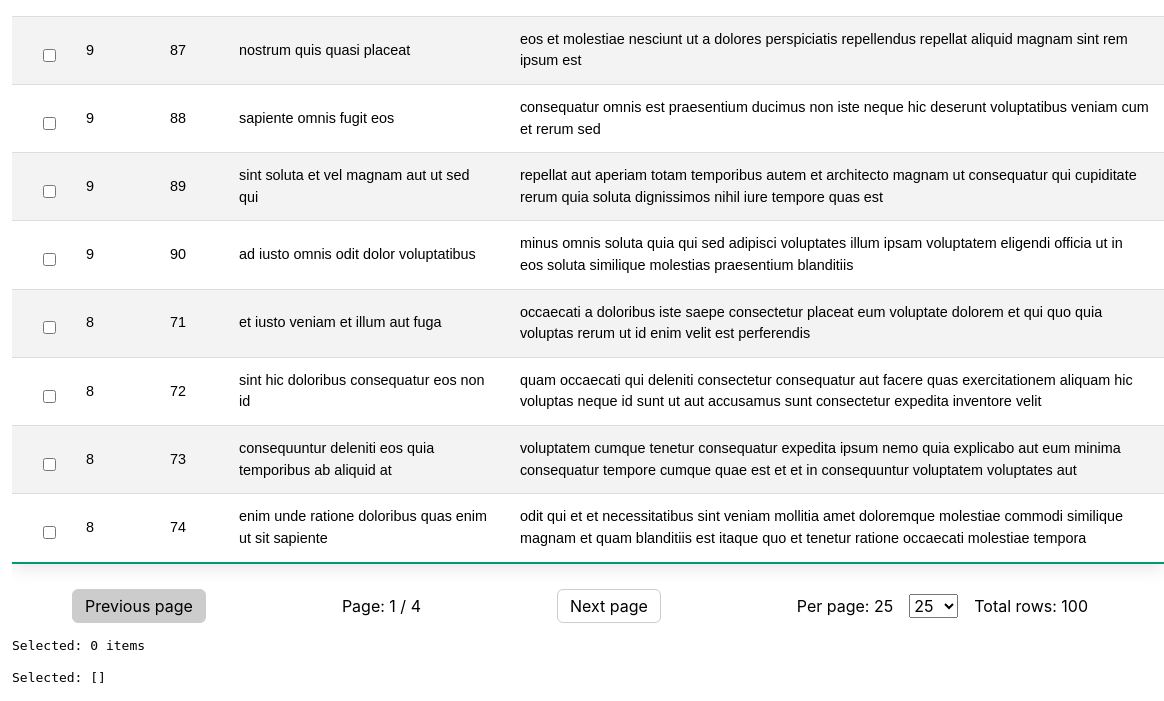
Test: renders correctly when changing perpage, and updates url accordingly
This screenshot has width=1164, height=701.
(page scrolled)
Expected: the text titled "total-rows" reads "Total rows: 100", [974,596,1088,616]
Expected: the text titled "current-page" reads "Page: 1 / 4", [342,594,421,618]
Select "50" in the dropdown titled "select-perpage" at (934, 606), box [909,594,958,618]
(page scrolled)
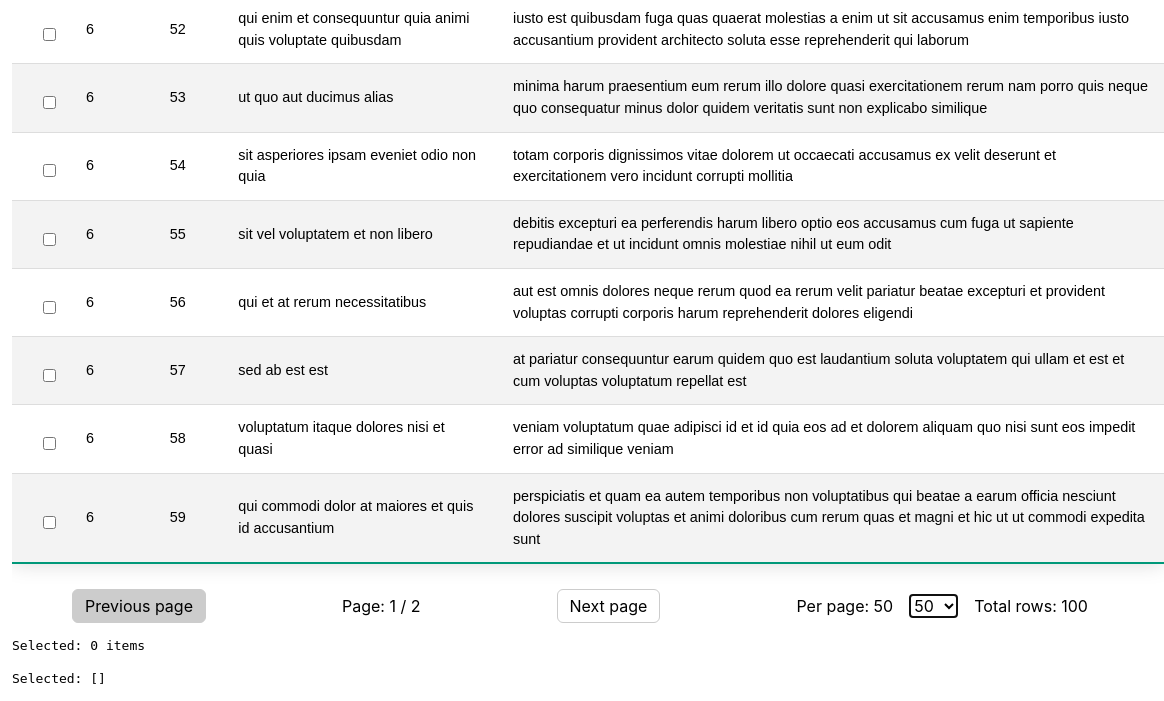
Expected: the text titled "current-page" reads "Page: 1 / 2", [342,594,420,618]
